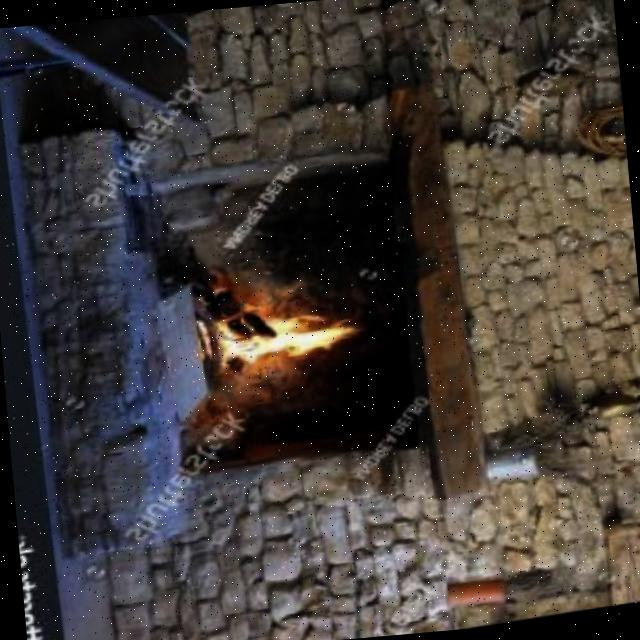fire: (184, 276, 374, 387)
